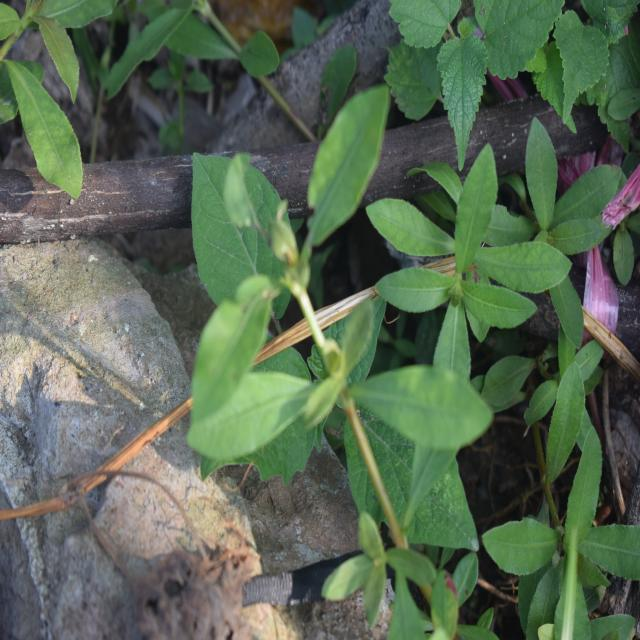Alligatorweed: (197, 106, 498, 498), (344, 118, 555, 364)
